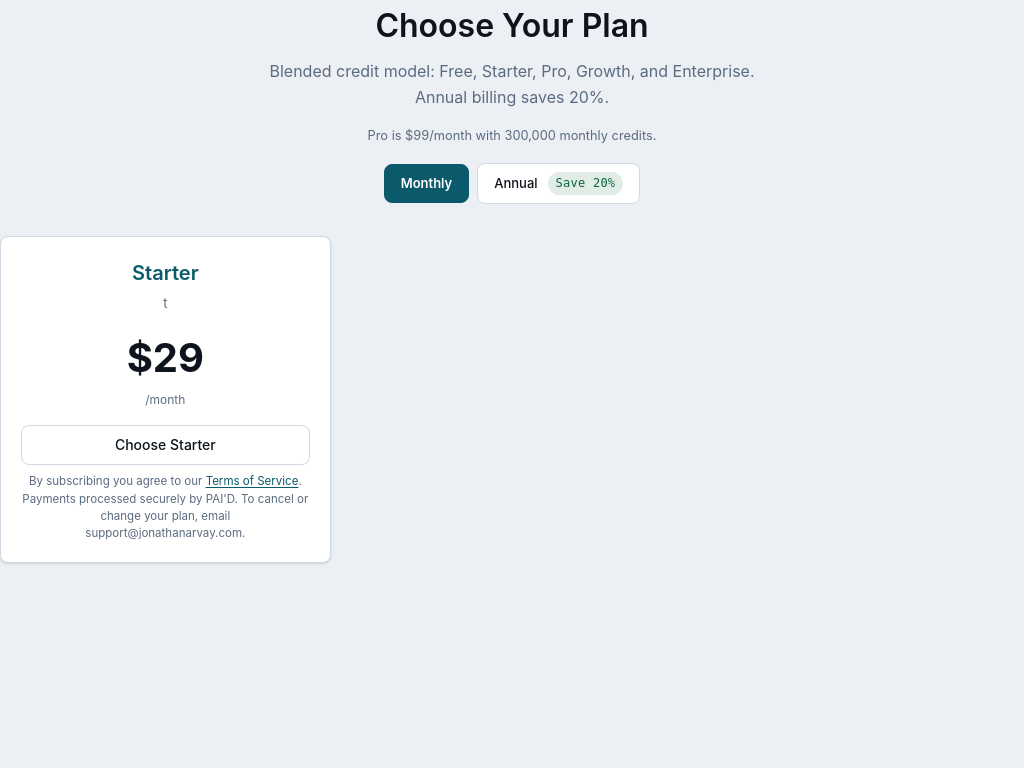
Test case: PlansPage PAI'D routing › never falls back to direct Stripe when PAI'D is not configured (PAI'D is the only money path)
This screenshot has width=1024, height=768.
Click the button "Choose Starter". click: (165, 445)
box: x1=21 y1=425 x2=310 y2=465
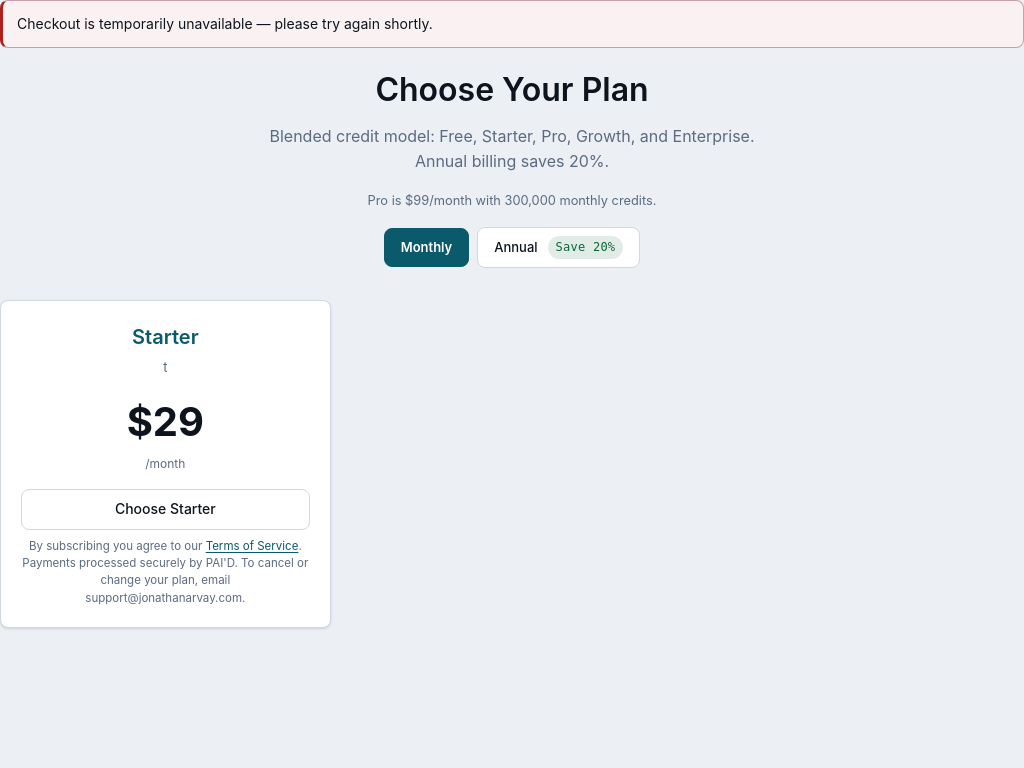
Expected: the text "temporarily unavailable" is shown, x1=17 y1=15 x2=433 y2=32
